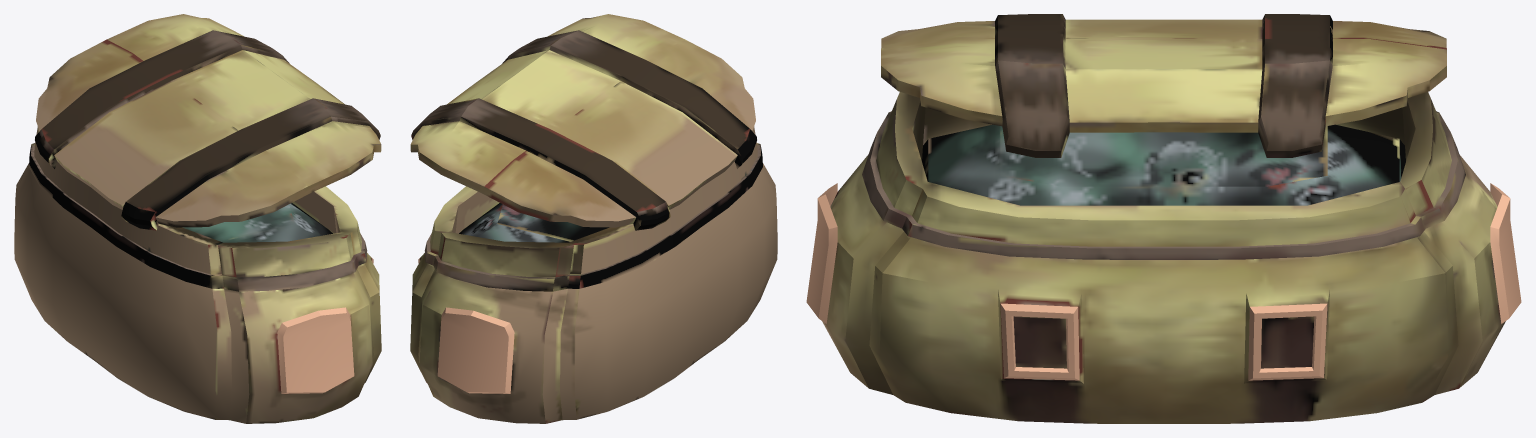
Rendered from basket.fbx.
3 renders of one model, left to right at view 1: azimuth 30°, elevation 25°; view 2: azimuth 150°, elevation 25°; view 3: azimuth 270°, elevation 25°, orthographic. The views are drawn at different scales.
Parts seen in each view (by area): view 1: Cube.002; view 2: Cube.002; view 3: Cube.002.
Part boxes in pixels (x1,y1,x2,y2): Cube.002: [14, 14, 381, 423]; Cube.002: [410, 14, 777, 423]; Cube.002: [806, 14, 1521, 423].
Bounding box in the file's own units: 291 × 273 × 517.
